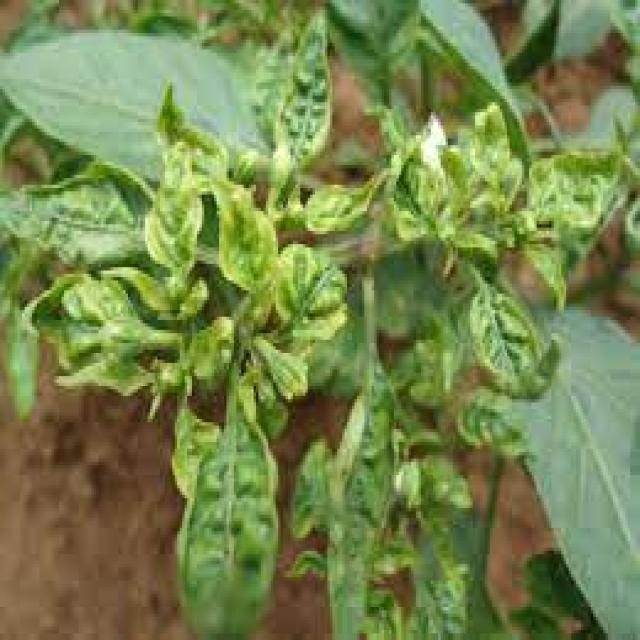Nutirtion_deficie: (25, 109, 303, 447), (331, 106, 635, 370), (342, 420, 482, 640), (199, 395, 300, 629), (264, 23, 344, 208)
